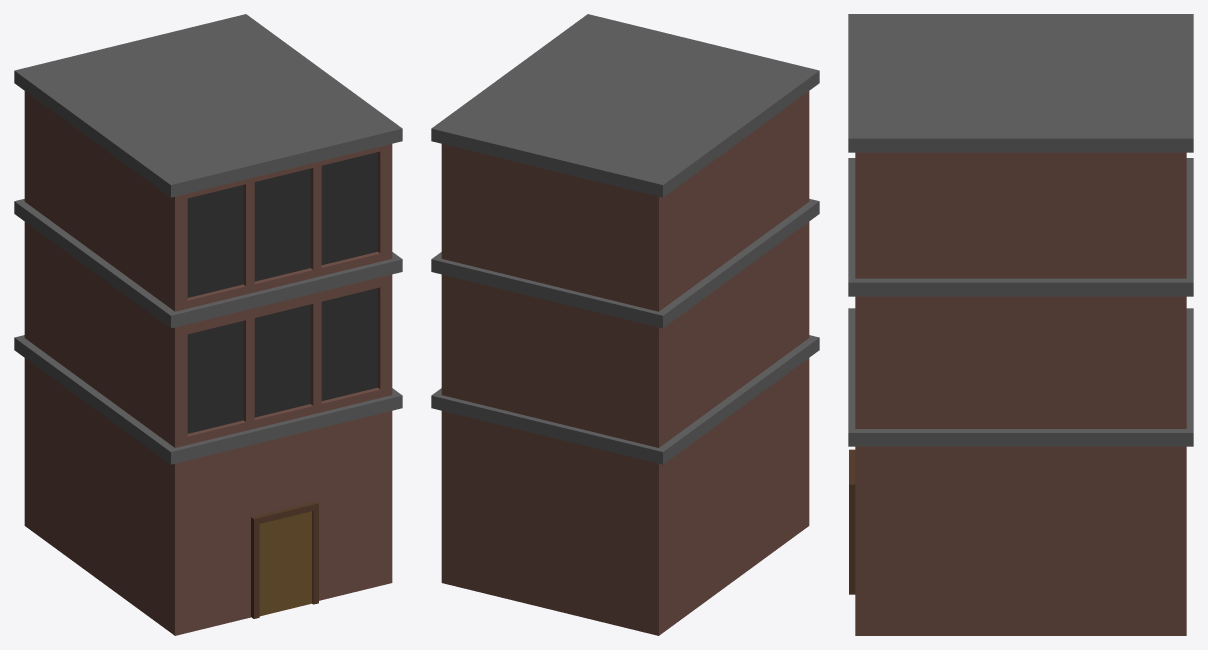
File: Predio1.fbx
3 renders of one model, left to right at view 1: azimuth 30°, elevation 25°; view 2: azimuth 150°, elevation 25°; view 3: azimuth 270°, elevation 25°, orthographic. The views are drawn at different scales.
Parts seen in each view (by area): view 1: Cube, Cube.006, Cube.003, Cube.002, Cube.001; view 2: Cube, Cube.006; view 3: Cube, Cube.006, Cube.001.
Boxes of the visible parts, <box> form: Cube: <box>24,91,392,635</box>; Cube.006: <box>14,14,402,464</box>; Cube.003: <box>187,152,377,433</box>; Cube.002: <box>259,511,312,616</box>; Cube.001: <box>251,501,318,618</box>; Cube: <box>441,91,809,635</box>; Cube.006: <box>431,14,819,464</box>; Cube: <box>855,152,1186,635</box>; Cube.006: <box>848,14,1193,446</box>; Cube.001: <box>849,449,855,594</box>.
Size of the model in its own units: 534 by 1001 by 625.
